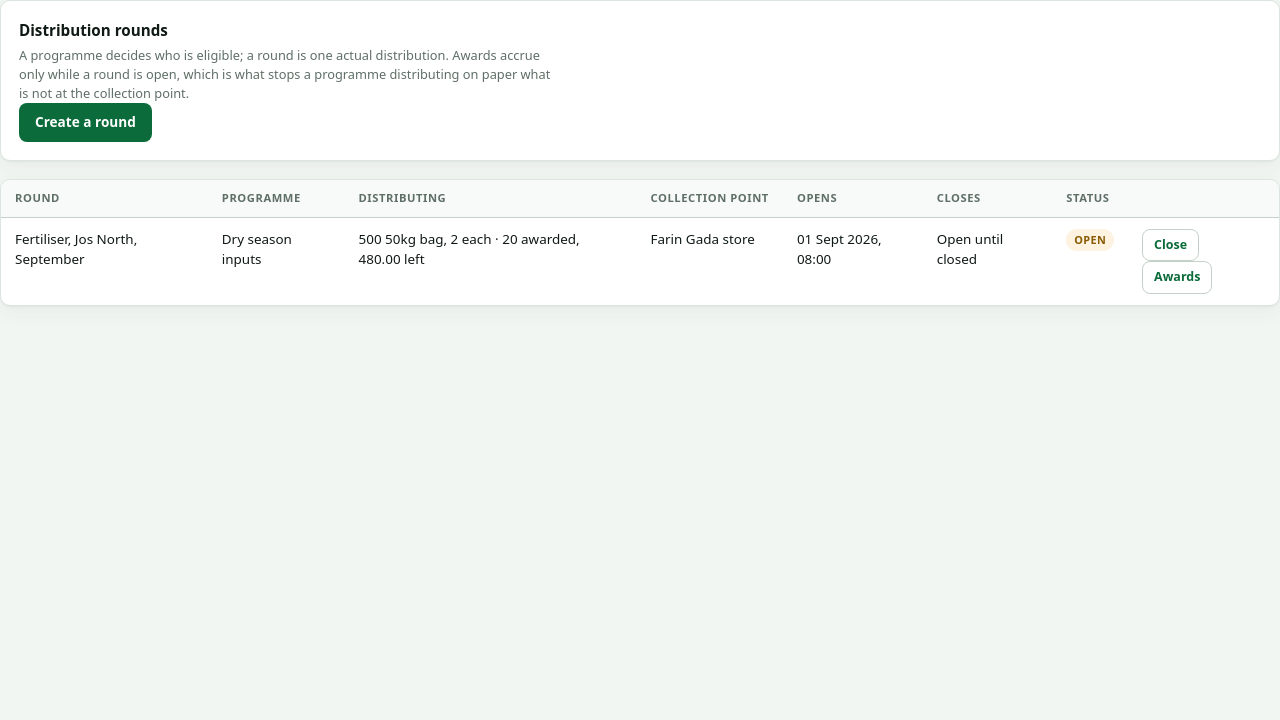
Scenario: the awards drawer › does not claim nobody was awarded when the list could not be read
Expected: the text "Fertiliser, Jos North, September" is shown, [1,217,208,305]
Step 1. Click the button "Awards" → (1177, 278), box [1142,261,1212,294]
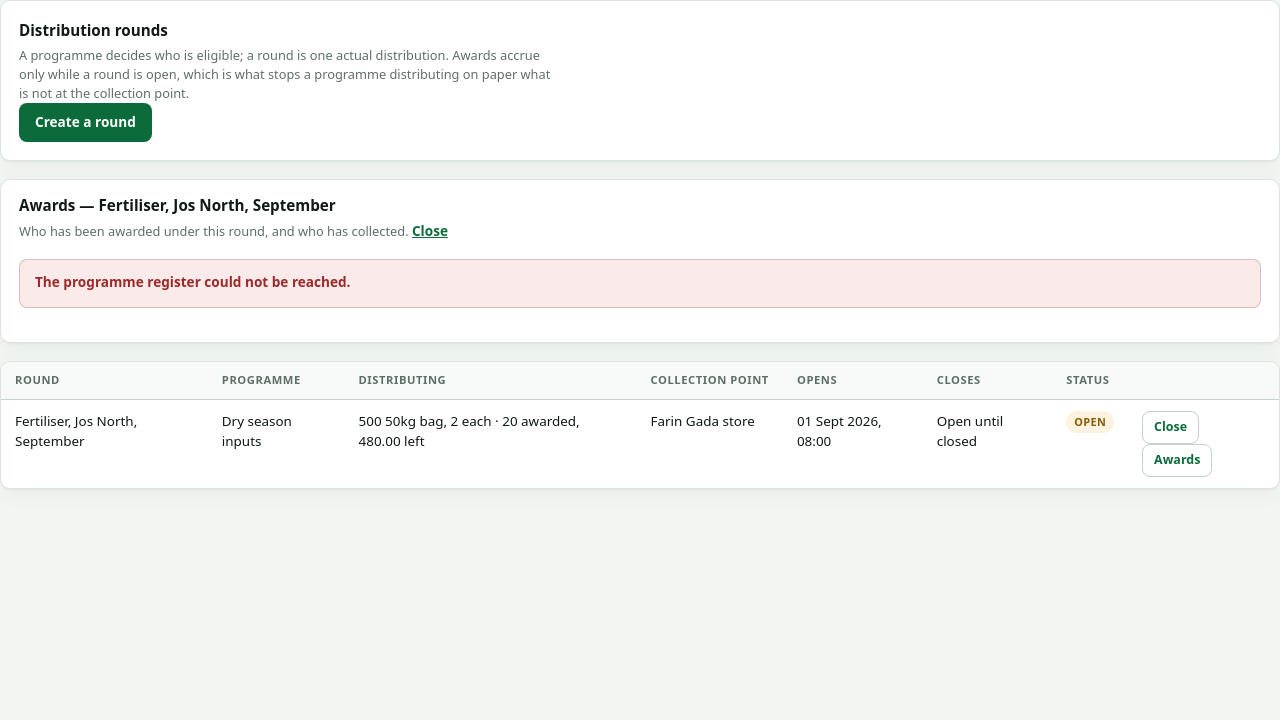
Now the text "The programme register could not be reached." is shown, box [35,272,350,291]
